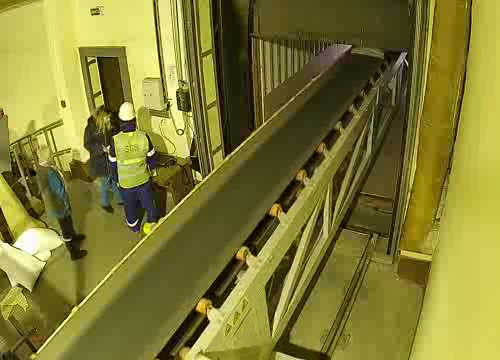bag: (350, 45, 387, 60)
